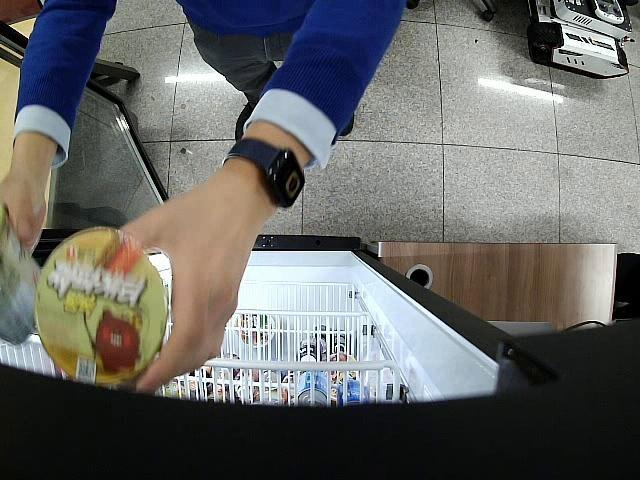04_chapagetti_S: (34, 228, 168, 390), (0, 206, 40, 346)
